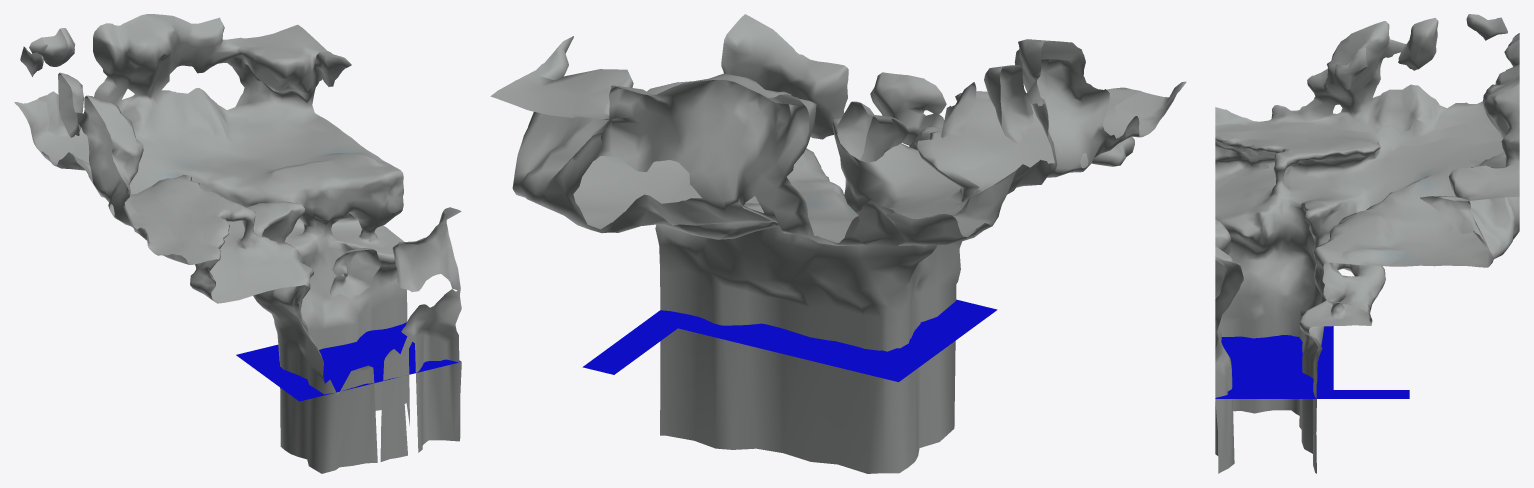
3 renders of one model, left to right at view 1: azimuth 30°, elevation 25°; view 2: azimuth 150°, elevation 25°; view 3: azimuth 270°, elevation 25°, orthographic. The views are drawn at different scales.
Parts seen in each view (by area): view 1: G:\FFXIV-MapTools\exports\l1f1\bg\ffxiv\lak_l1\fld\l1f1\bgpl (×18); view 2: G:\FFXIV-MapTools\exports\l1f1\bg\ffxiv\lak_l1\fld\l1f1\bgpl (×18); view 3: G:\FFXIV-MapTools\exports\l1f1\bg\ffxiv\lak_l1\fld\l1f1\bgpl (×19).
Part boxes in pixels (x1=…): G:\FFXIV-MapTools\exports\l1f1\bg\ffxiv\lak_l1\fld\l1f1\bgpl (×18): x1=14, y1=14, x2=461, y2=473; G:\FFXIV-MapTools\exports\l1f1\bg\ffxiv\lak_l1\fld\l1f1\bgpl (×18): x1=495, y1=14, x2=1186, y2=473; G:\FFXIV-MapTools\exports\l1f1\bg\ffxiv\lak_l1\fld\l1f1\bgpl (×19): x1=1215, y1=14, x2=1519, y2=473.
Size of the model in its own units: 128 by 154 by 128.
